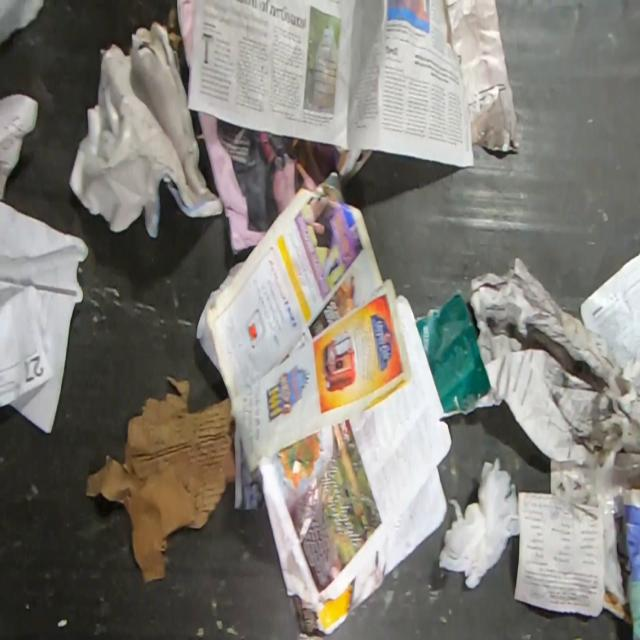cardboard: (85, 375, 236, 585)
soft_plastic: (437, 456, 522, 589)
